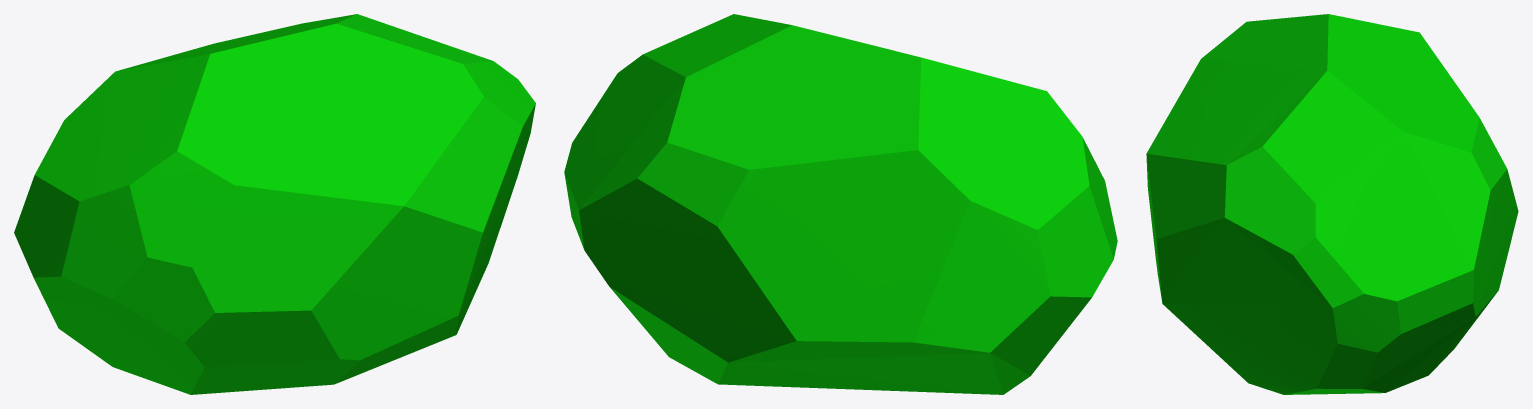
File: UCX_tsumiishi5r.fbx
3 views of the same model, side by side, from view 1: azimuth 30°, elevation 25°; view 2: azimuth 150°, elevation 25°; view 3: azimuth 270°, elevation 25° (orthographic). The views are drawn at different scales.
Parts seen in each view (by area): view 1: UCX_tsumiishi5r_low; view 2: UCX_tsumiishi5r_low; view 3: UCX_tsumiishi5r_low.
Part boxes in pixels (left/top/right/bottom): UCX_tsumiishi5r_low: left=14, top=14, right=535, bottom=394; UCX_tsumiishi5r_low: left=564, top=14, right=1117, bottom=394; UCX_tsumiishi5r_low: left=1146, top=14, right=1518, bottom=394.
Bounding box in the file's own units: 0.0632 × 0.0367 × 0.0445.
